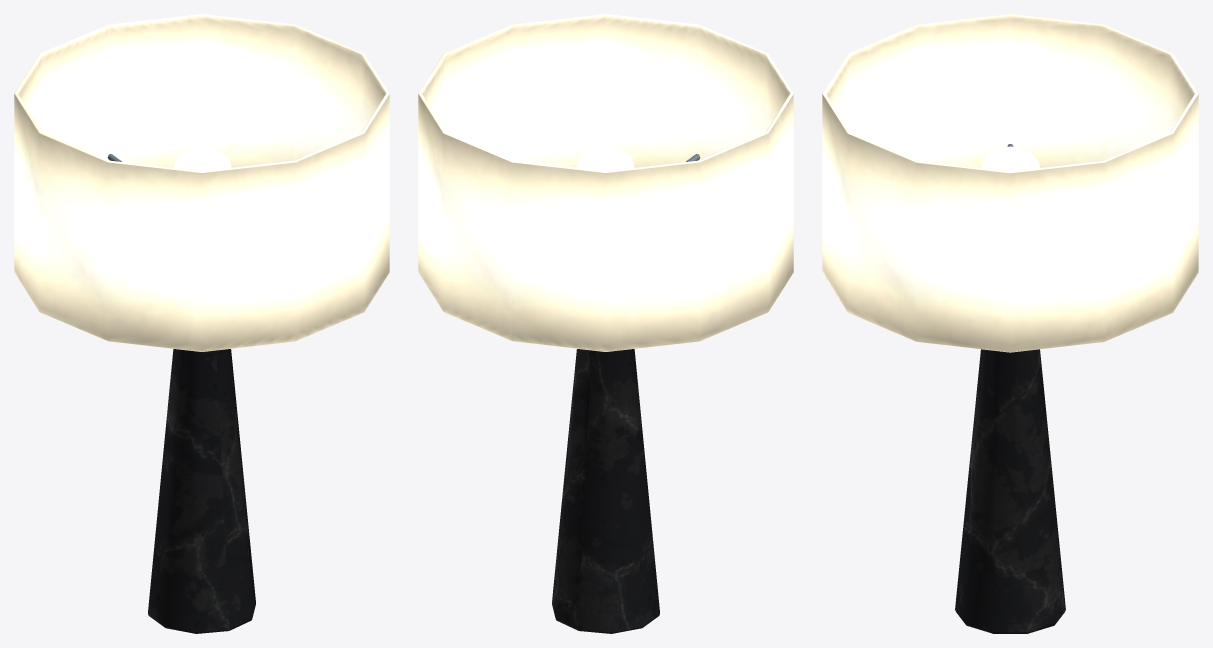
The model's file is Lights_Table_Lamps_1.fbx.
The picture shows the model from 3 angles, left to right: view 1: azimuth 30°, elevation 25°; view 2: azimuth 150°, elevation 25°; view 3: azimuth 270°, elevation 25°; orthographic projection.
Parts seen in each view (by area): view 1: Cylinder.027; view 2: Cylinder.027; view 3: Cylinder.027.
Boxes of the visible parts, x1,y1,x2,y2 form: Cylinder.027: [14, 14, 389, 633]; Cylinder.027: [418, 14, 793, 633]; Cylinder.027: [822, 14, 1198, 633].
Size of the model in its own units: 47.61 by 72.65 by 47.61.
